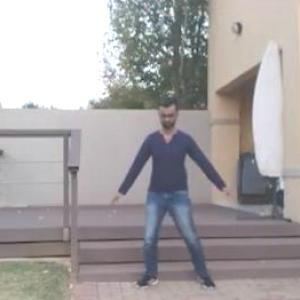land: (121, 100, 243, 298)
